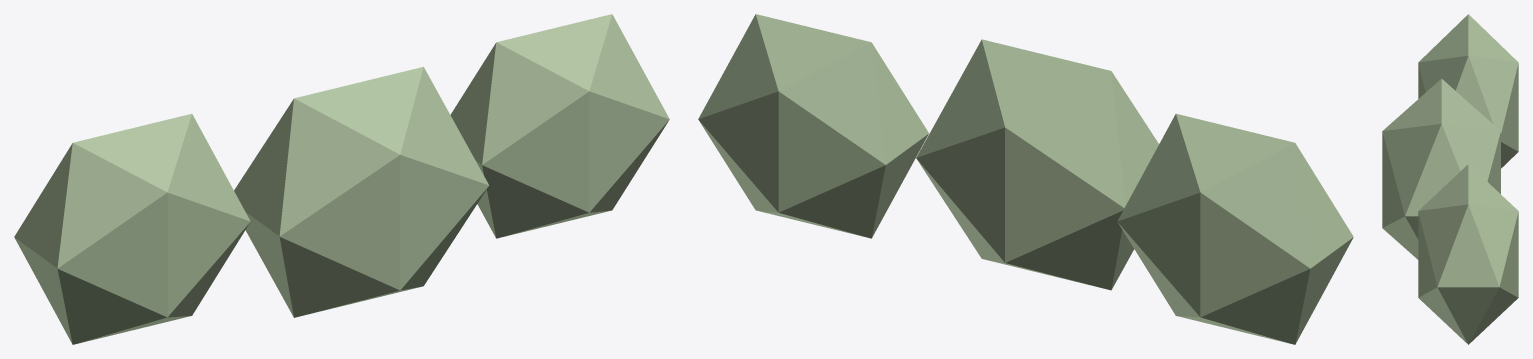
File: sphagnum_moss.glb
3 renders of one model, left to right at view 1: azimuth 30°, elevation 25°; view 2: azimuth 150°, elevation 25°; view 3: azimuth 270°, elevation 25°, orthographic. The views are drawn at different scales.
Parts seen in each view (by area): view 1: world; view 2: world; view 3: world.
Boxes of the visible parts, <box> form: world: <box>14,14,669,344</box>; world: <box>698,14,1353,344</box>; world: <box>1382,14,1518,344</box>.
Size of the model in its own units: 0.9435 by 0.3232 by 0.2542.
